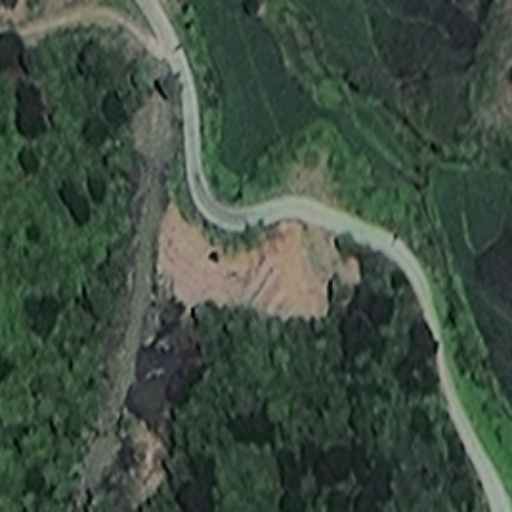landslide: (157, 204, 362, 320)
